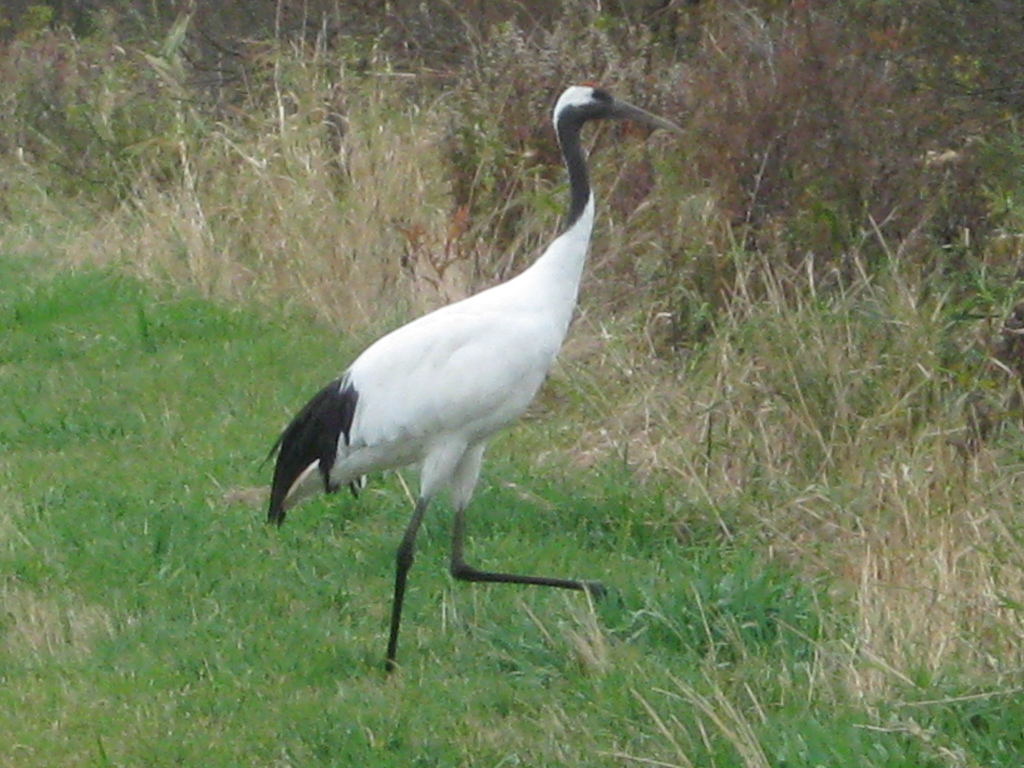Bird: (258, 82, 685, 682)
